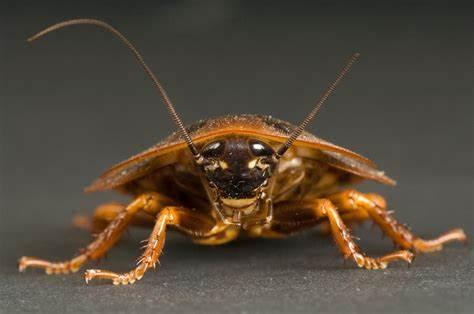cockroach: (81, 110, 402, 256)
